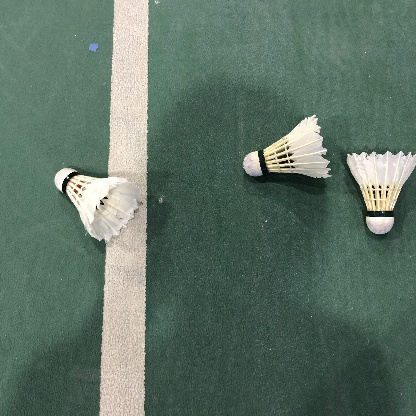ball_single: (54, 168, 139, 241), (347, 151, 416, 234), (243, 114, 332, 178)
